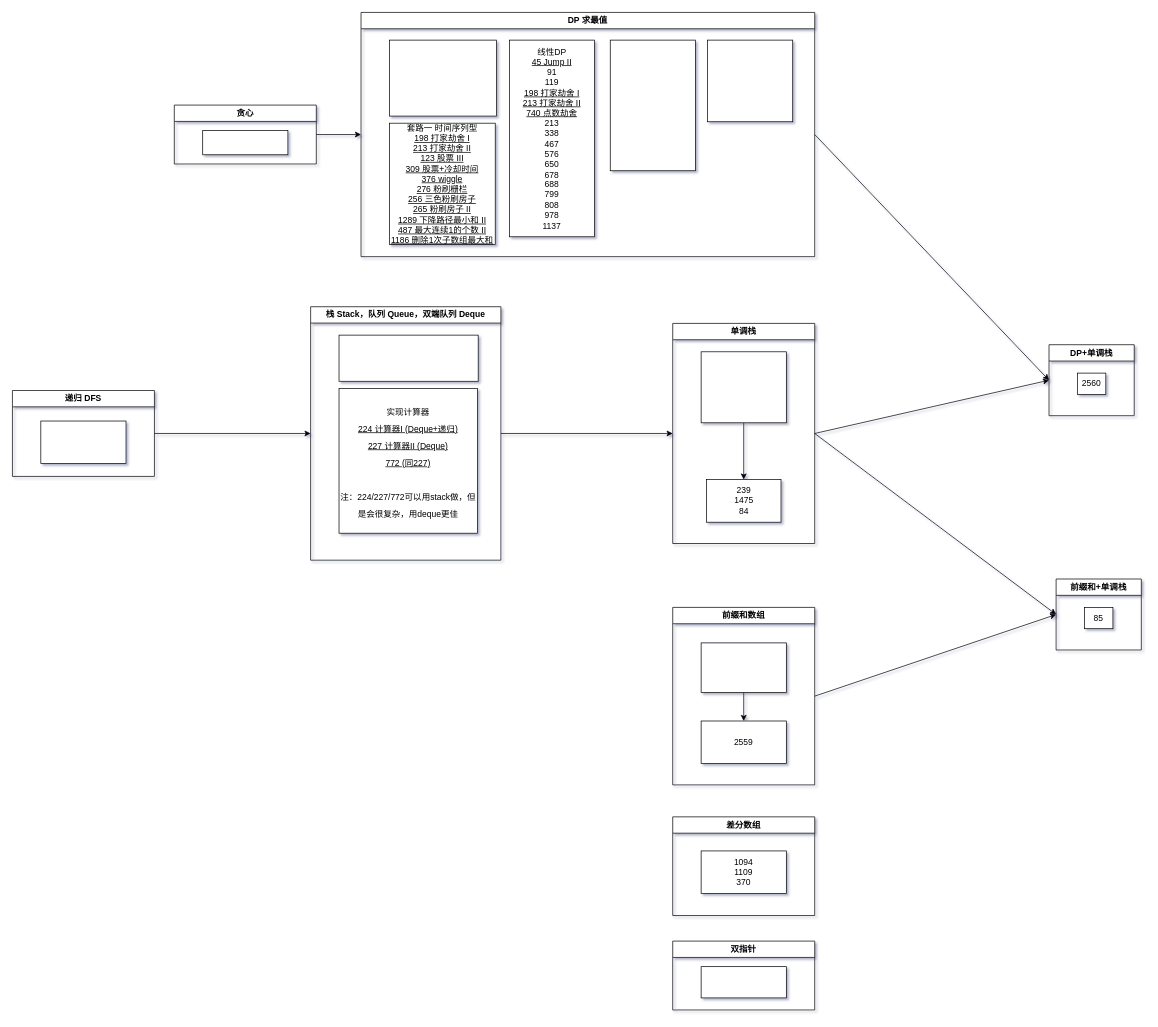
This 1158x1027 diagram has some shape labels left out. Here are the shapes that lost their labels. From the top down, the centre of each, then its label:
At [443,77]: "基本思想 509 Fib 1137 Tribonacci 70 爬梯子 746 爬梯子 II 53 最大子数组和".
At [750,80]: "记忆化搜索 375 464 494 576 1137".
At [652,105]: "背包DP 279 322 416 474 494 518 638 1049 1155 1995".
At [245,142]: "55 Jump I".
At [408,357]: "基础必会 20 括号对 (Stack)".
At [743,387]: "基础必会 496 503 739".
At [83,442]: "基础必会 17 (电话号码)".
At [743,667]: "基础必会 303 304".
At [743,982]: "2563 范围内的数对".
